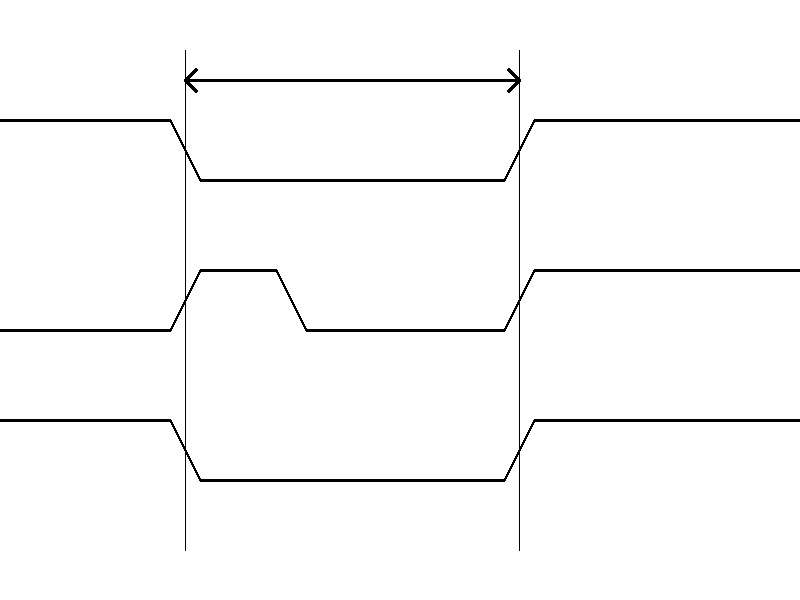double_arrow: (185, 65, 519, 95)
